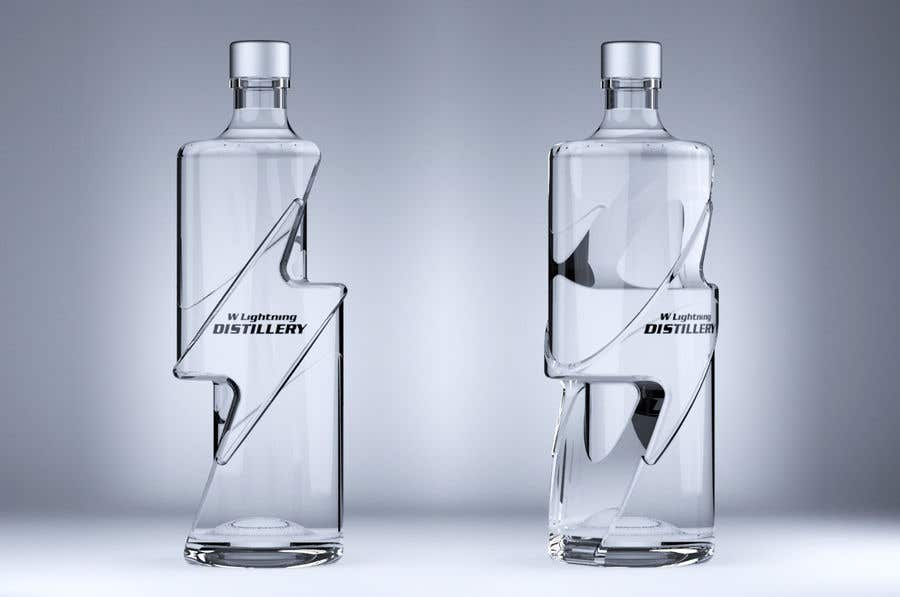glass_bottle: (523, 33, 736, 579), (162, 31, 373, 576)
